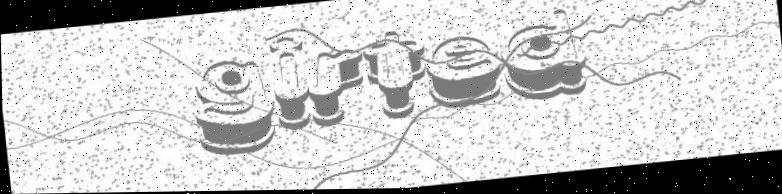d: (498, 8, 588, 108)
e: (421, 29, 504, 113)
g: (187, 52, 280, 158)
i: (267, 32, 313, 134)
r: (304, 44, 371, 132)
t: (359, 27, 432, 125)
